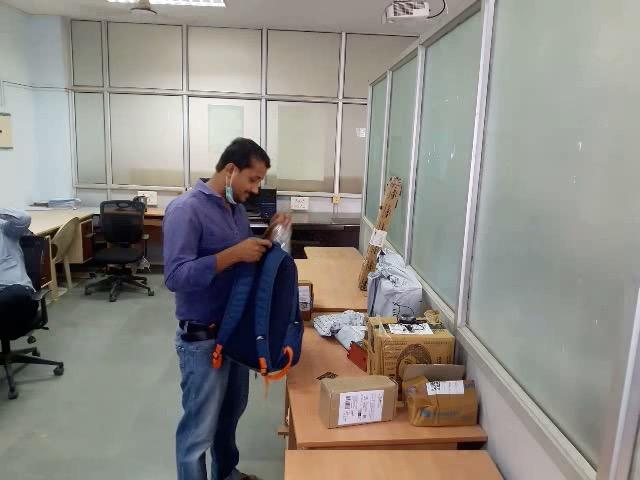shoplifting: (141, 204, 403, 399)
